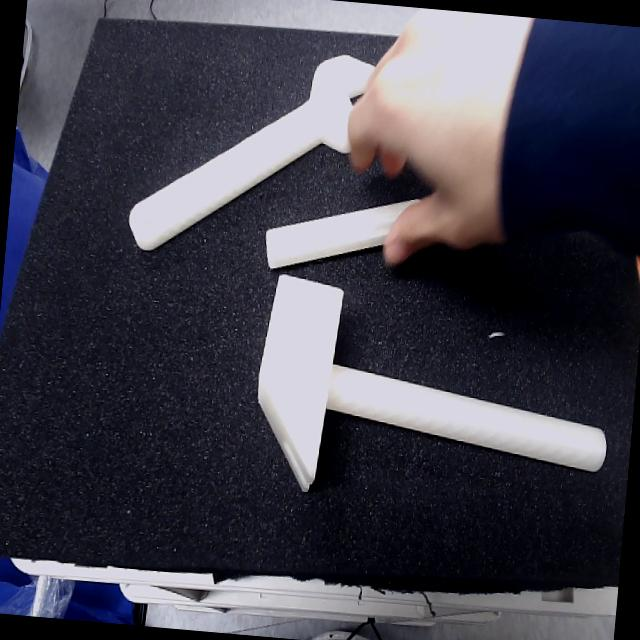Hammer: (257, 275, 607, 492)
